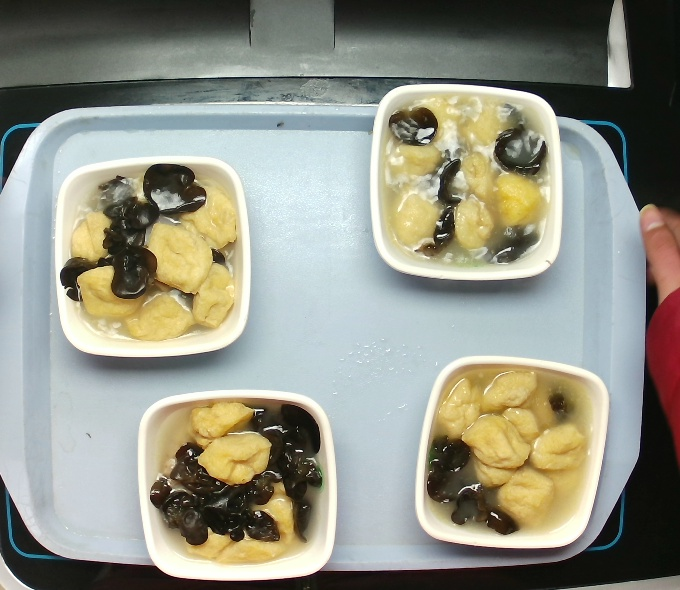wcq-MuErYouPaoTang: (413, 349, 601, 549), (64, 148, 242, 357), (366, 95, 558, 260), (144, 399, 326, 565)
